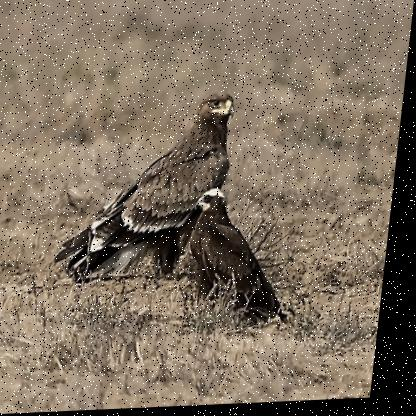Burung: (66, 93, 242, 286)
